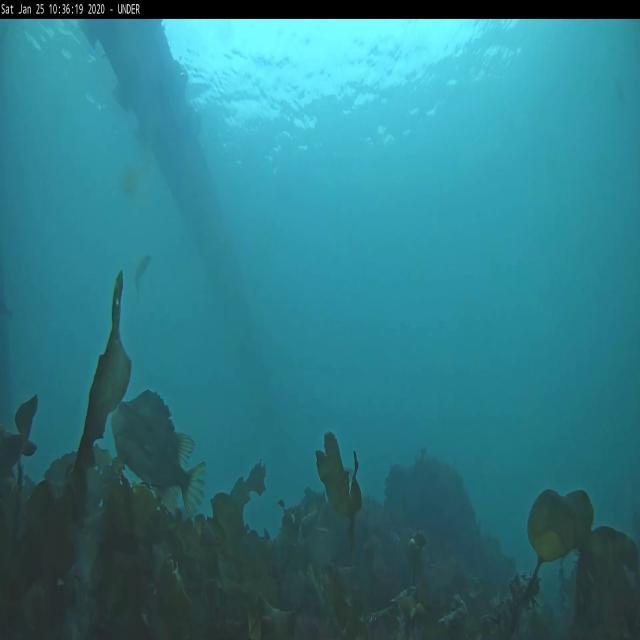fish: (134, 250, 148, 288)
